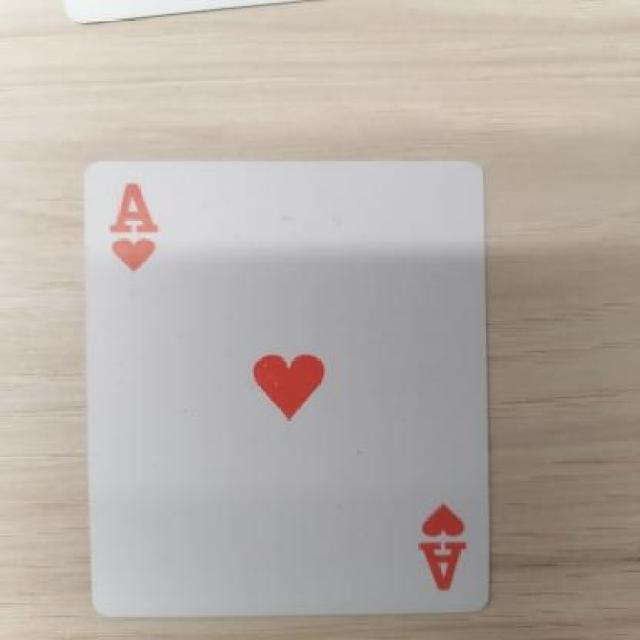AH: (96, 169, 176, 296), (395, 499, 480, 603)
